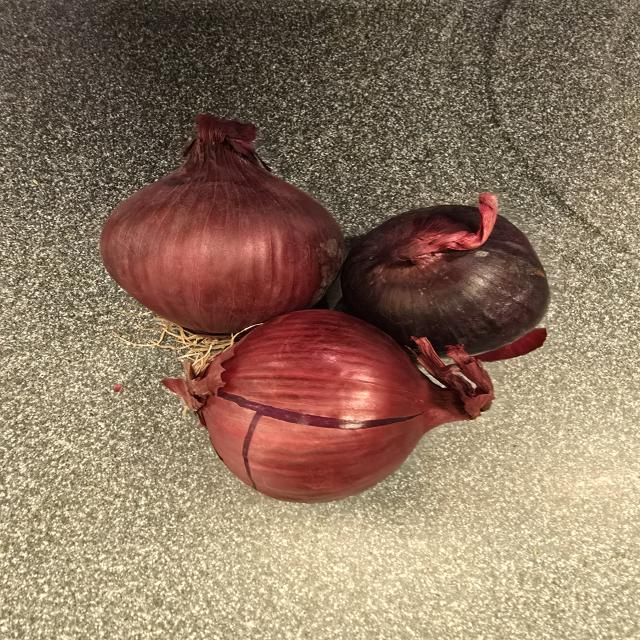Onion: (161, 310, 488, 503), (100, 115, 344, 334), (338, 193, 550, 355)
